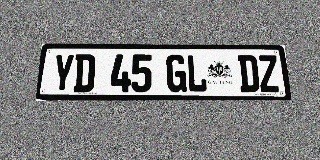4: (110, 54, 131, 92)
5: (131, 54, 152, 92)
D: (73, 54, 96, 92), (237, 55, 260, 92)
G: (166, 55, 187, 92)
L: (186, 55, 208, 92)
Y: (51, 54, 75, 92)
Z: (257, 55, 280, 92)
